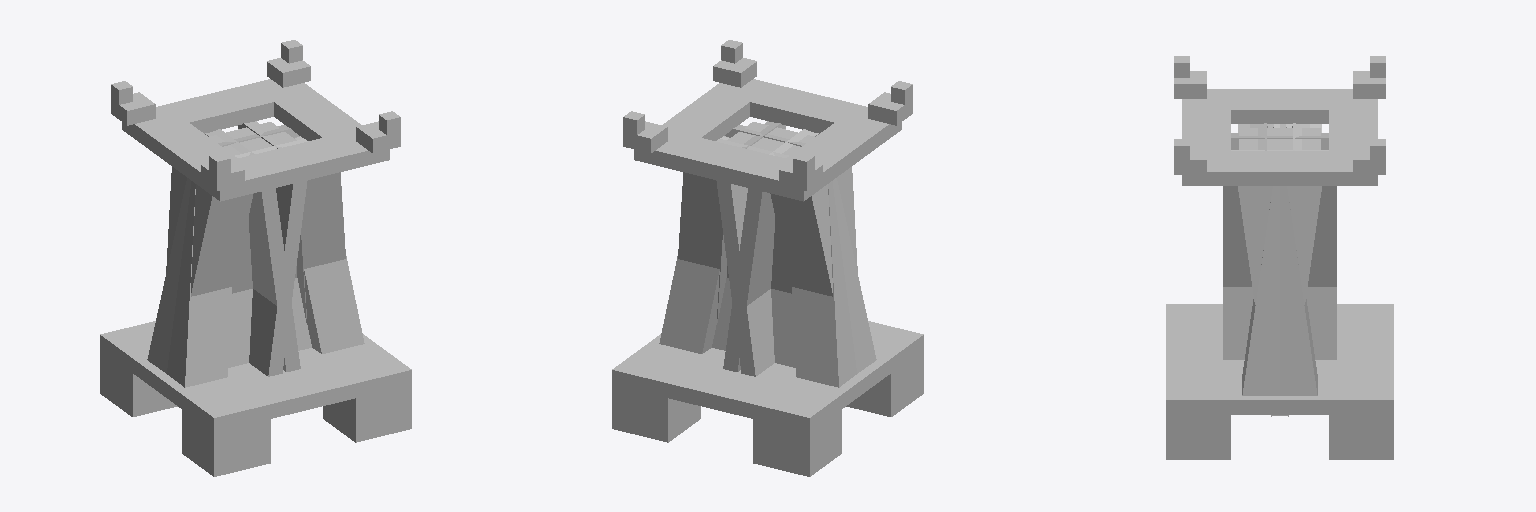
The model's file is BlockIncenseAltar.obj.
3 views of the same model, side by side, from view 1: azimuth 30°, elevation 25°; view 2: azimuth 150°, elevation 25°; view 3: azimuth 270°, elevation 25° (orthographic).
Parts seen in each view (by area): view 1: BlockIncenseAltar; view 2: BlockIncenseAltar; view 3: BlockIncenseAltar.
Part boxes in pixels (left/top/right/bottom): BlockIncenseAltar: left=100, top=40, right=411, bottom=476; BlockIncenseAltar: left=612, top=40, right=923, bottom=476; BlockIncenseAltar: left=1166, top=56, right=1393, bottom=459.
Size of the model in its own units: 0.875 by 1.31 by 0.875.